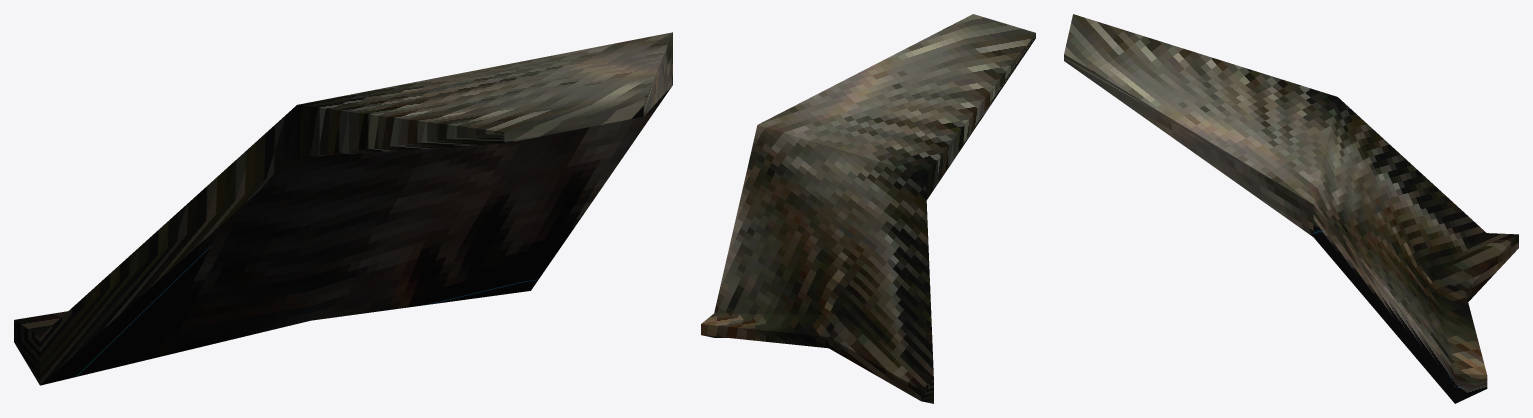
Rendered from g R wing.fbx.
3 renders of one model, left to right at view 1: azimuth 30°, elevation 25°; view 2: azimuth 150°, elevation 25°; view 3: azimuth 270°, elevation 25°, orthographic. The views are drawn at different scales.
Parts seen in each view (by area): view 1: wing_r; view 2: wing_r; view 3: wing_r.
Part boxes in pixels (left/top/right/bottom): wing_r: left=14, top=32, right=672, bottom=385; wing_r: left=701, top=14, right=1035, bottom=403; wing_r: left=1064, top=14, right=1518, bottom=403.
Size of the model in its own units: 800 by 723 by 1032.
Materials: 1 (1 with a texture image).
